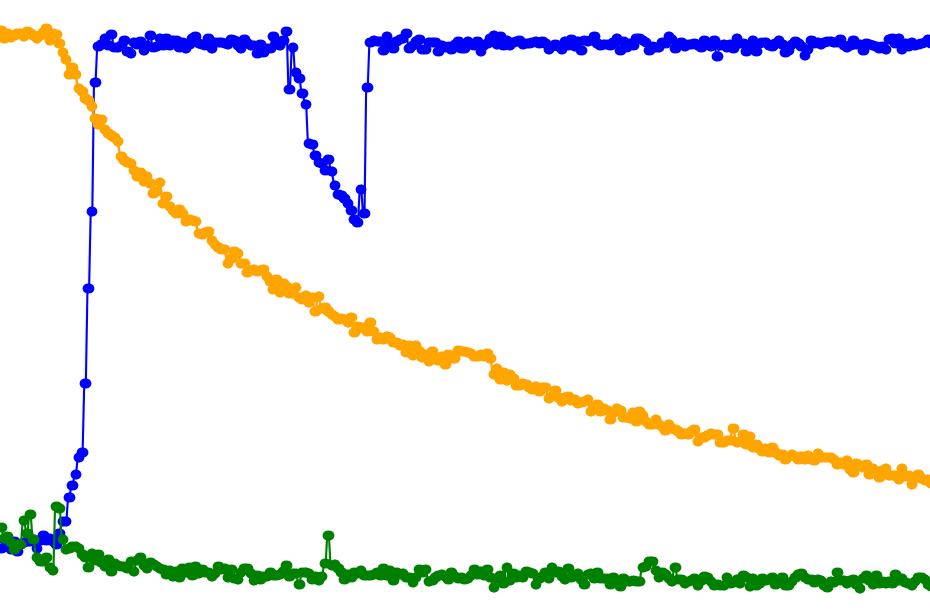CO2 Problem: (311, 0, 738, 616), (738, 0, 930, 616), (155, 0, 311, 616), (38, 0, 155, 616)
Condensation CO2: (38, 0, 311, 616), (349, 0, 583, 616), (194, 0, 388, 616), (738, 0, 930, 616), (777, 0, 930, 616), (505, 0, 622, 616), (622, 0, 738, 616), (77, 0, 155, 616), (427, 0, 505, 616), (311, 0, 388, 616), (661, 0, 738, 616), (155, 0, 194, 616), (388, 0, 427, 616), (738, 0, 777, 616)
Condensation O2: (777, 0, 930, 616), (622, 0, 738, 616), (311, 0, 388, 616)
High CO2: (311, 0, 505, 616), (777, 0, 930, 616), (622, 0, 738, 616)
High O2: (38, 0, 311, 616), (311, 0, 505, 616), (155, 0, 311, 616), (777, 0, 930, 616), (38, 0, 155, 616)
Low CO2: (311, 0, 738, 616), (311, 0, 622, 616), (311, 0, 505, 616), (738, 0, 930, 616), (155, 0, 311, 616), (777, 0, 930, 616), (38, 0, 155, 616), (505, 0, 622, 616), (622, 0, 738, 616), (427, 0, 505, 616), (661, 0, 738, 616)
Low O2: (311, 0, 622, 616), (155, 0, 311, 616), (777, 0, 930, 616), (38, 0, 155, 616), (388, 0, 505, 616), (505, 0, 622, 616), (311, 0, 388, 616), (661, 0, 738, 616)
Normal: (0, 0, 930, 616), (311, 0, 738, 616), (311, 0, 622, 616), (349, 0, 583, 616), (388, 0, 622, 616), (427, 0, 622, 616), (311, 0, 505, 616), (738, 0, 930, 616), (155, 0, 311, 616), (349, 0, 505, 616), (777, 0, 930, 616), (38, 0, 155, 616), (155, 0, 272, 616), (194, 0, 311, 616), (388, 0, 505, 616), (505, 0, 622, 616), (622, 0, 738, 616), (38, 0, 116, 616), (427, 0, 505, 616), (661, 0, 738, 616), (155, 0, 194, 616), (388, 0, 427, 616), (738, 0, 777, 616), (0, 0, 38, 616)
O2 Problem: (311, 0, 738, 616), (311, 0, 622, 616), (738, 0, 930, 616), (155, 0, 311, 616), (777, 0, 930, 616), (194, 0, 311, 616), (388, 0, 505, 616), (505, 0, 622, 616), (622, 0, 738, 616), (661, 0, 738, 616)
